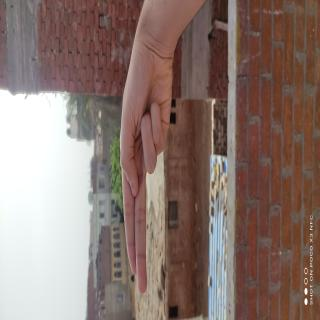AYN: (9, 260, 142, 320)
